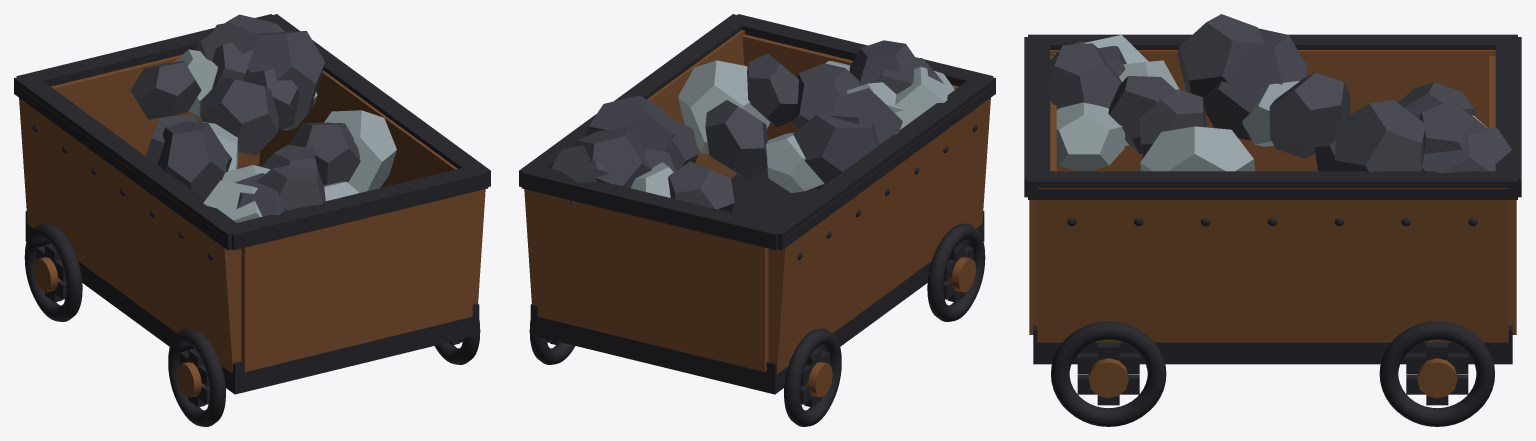
The model's file is mia-mine_cart.glb.
3 views of the same model, side by side, from view 1: azimuth 30°, elevation 25°; view 2: azimuth 150°, elevation 25°; view 3: azimuth 270°, elevation 25° (orthographic). The views are drawn at different scales.
Visible parts, largest first — view 1: Body_rust, Body_iron, Body_stone, Body_steel; view 2: Body_rust, Body_iron, Body_stone, Body_steel; view 3: Body_rust, Body_iron, Body_stone, Body_steel.
Boxes of the visible parts, <box> form: Body_rust: <box>18,54,485,397</box>; Body_iron: <box>14,14,490,426</box>; Body_stone: <box>130,14,360,216</box>; Body_steel: <box>174,49,396,222</box>; Body_rust: <box>524,30,991,397</box>; Body_iron: <box>519,14,995,426</box>; Body_stone: <box>551,40,943,212</box>; Body_steel: <box>631,60,954,197</box>; Body_rust: <box>1029,50,1516,398</box>; Body_iron: <box>1024,34,1521,426</box>; Body_stone: <box>1044,14,1511,173</box>; Body_steel: <box>1054,35,1486,171</box>.
Bounding box in the file's own units: 1.34 × 1.19 × 1.82.
